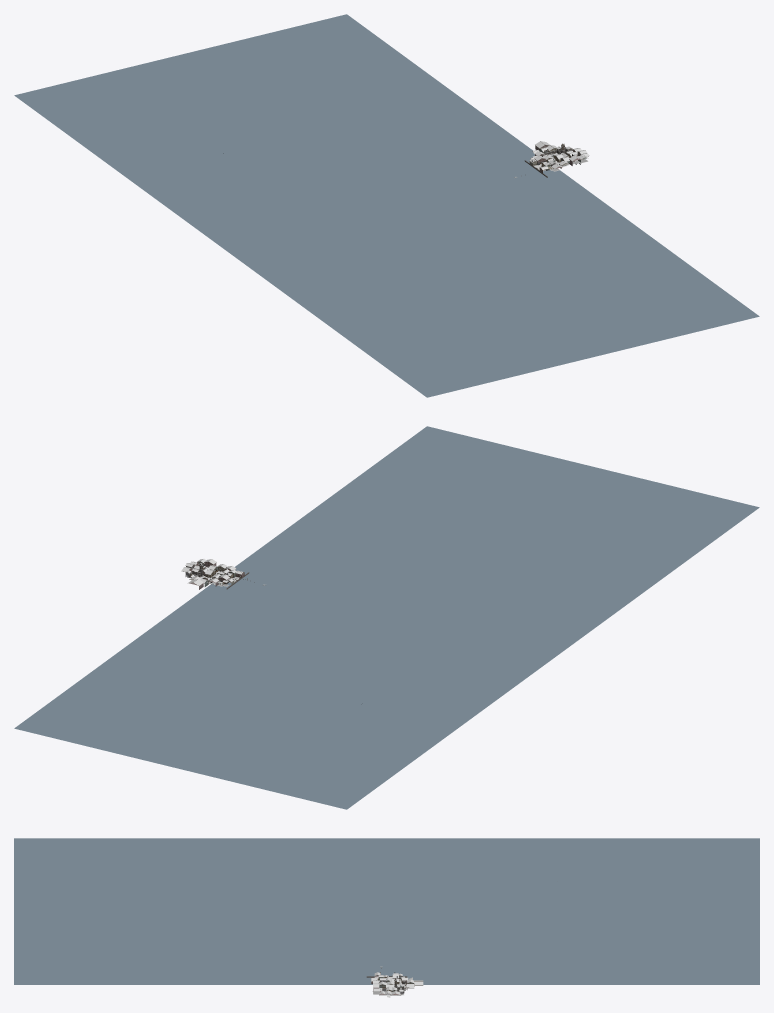
The model's file is subzero-source.glb.
3 views of the same model, one above another, from view 1: azimuth 30°, elevation 25°; view 2: azimuth 150°, elevation 25°; view 3: azimuth 270°, elevation 25° (orthographic). The views are drawn at different scales.
Parts seen in each view (by area): view 1: Subzero.gltf_36; view 2: Subzero.gltf_36; view 3: Subzero.gltf_36.
Part boxes in pixels (bbox=[...]): Subzero.gltf_36: bbox=[14, 14, 759, 397]; Subzero.gltf_36: bbox=[14, 426, 759, 809]; Subzero.gltf_36: bbox=[14, 838, 759, 997].
Size of the model in its own units: 5893 by 253 by 11525.
23 materials, 22 textured.
